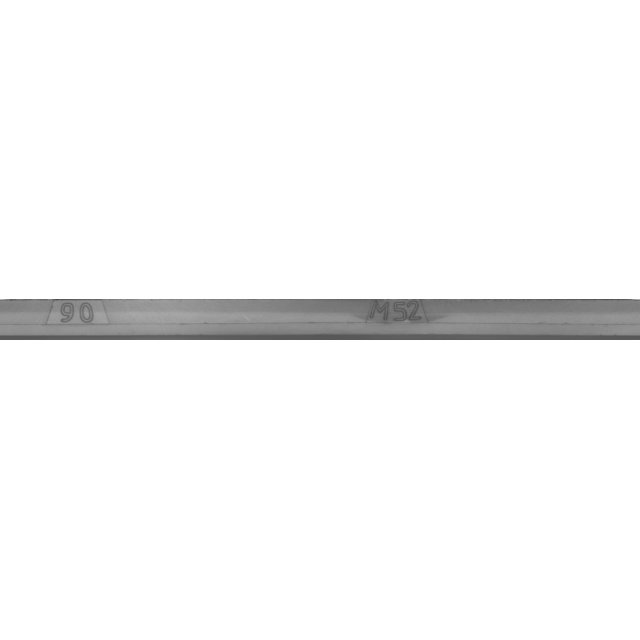mohao: (302, 270, 502, 370)
xuehao: (0, 270, 176, 370)
